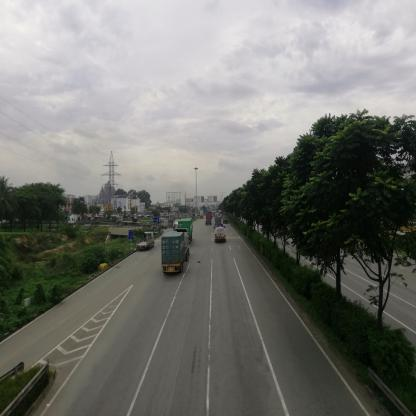container: (163, 232, 190, 274), (69, 216, 93, 226), (178, 220, 193, 234), (116, 217, 126, 227), (205, 215, 212, 225)
truck: (140, 233, 158, 252), (215, 225, 226, 246), (160, 220, 169, 232), (224, 216, 229, 227)
